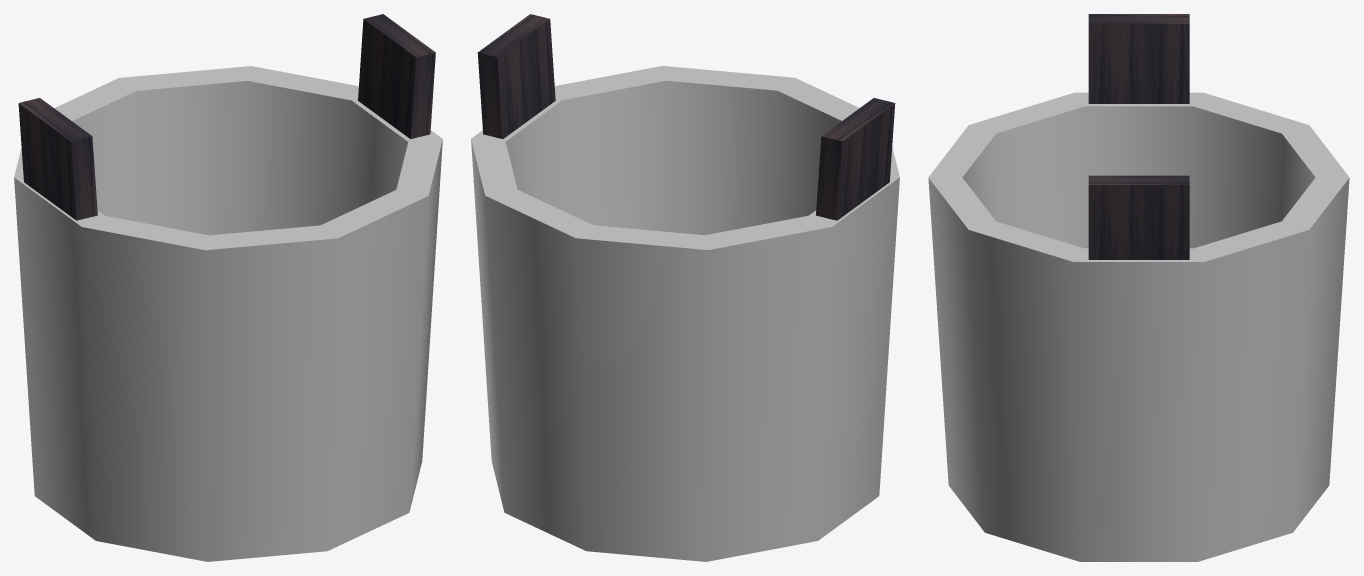
Rendered from Bucket_C.fbx.
3 renders of one model, left to right at view 1: azimuth 30°, elevation 25°; view 2: azimuth 150°, elevation 25°; view 3: azimuth 270°, elevation 25°, orthographic. The views are drawn at different scales.
Visible parts, largest first — view 1: Bucket_C; view 2: Bucket_C; view 3: Bucket_C.
Boxes of the visible parts, bbox=[...] form: Bucket_C: bbox=[14, 14, 442, 561]; Bucket_C: bbox=[471, 14, 899, 561]; Bucket_C: bbox=[928, 14, 1349, 561].
Bounding box in the file's own units: 0.152 × 0.1597 × 0.1582.
